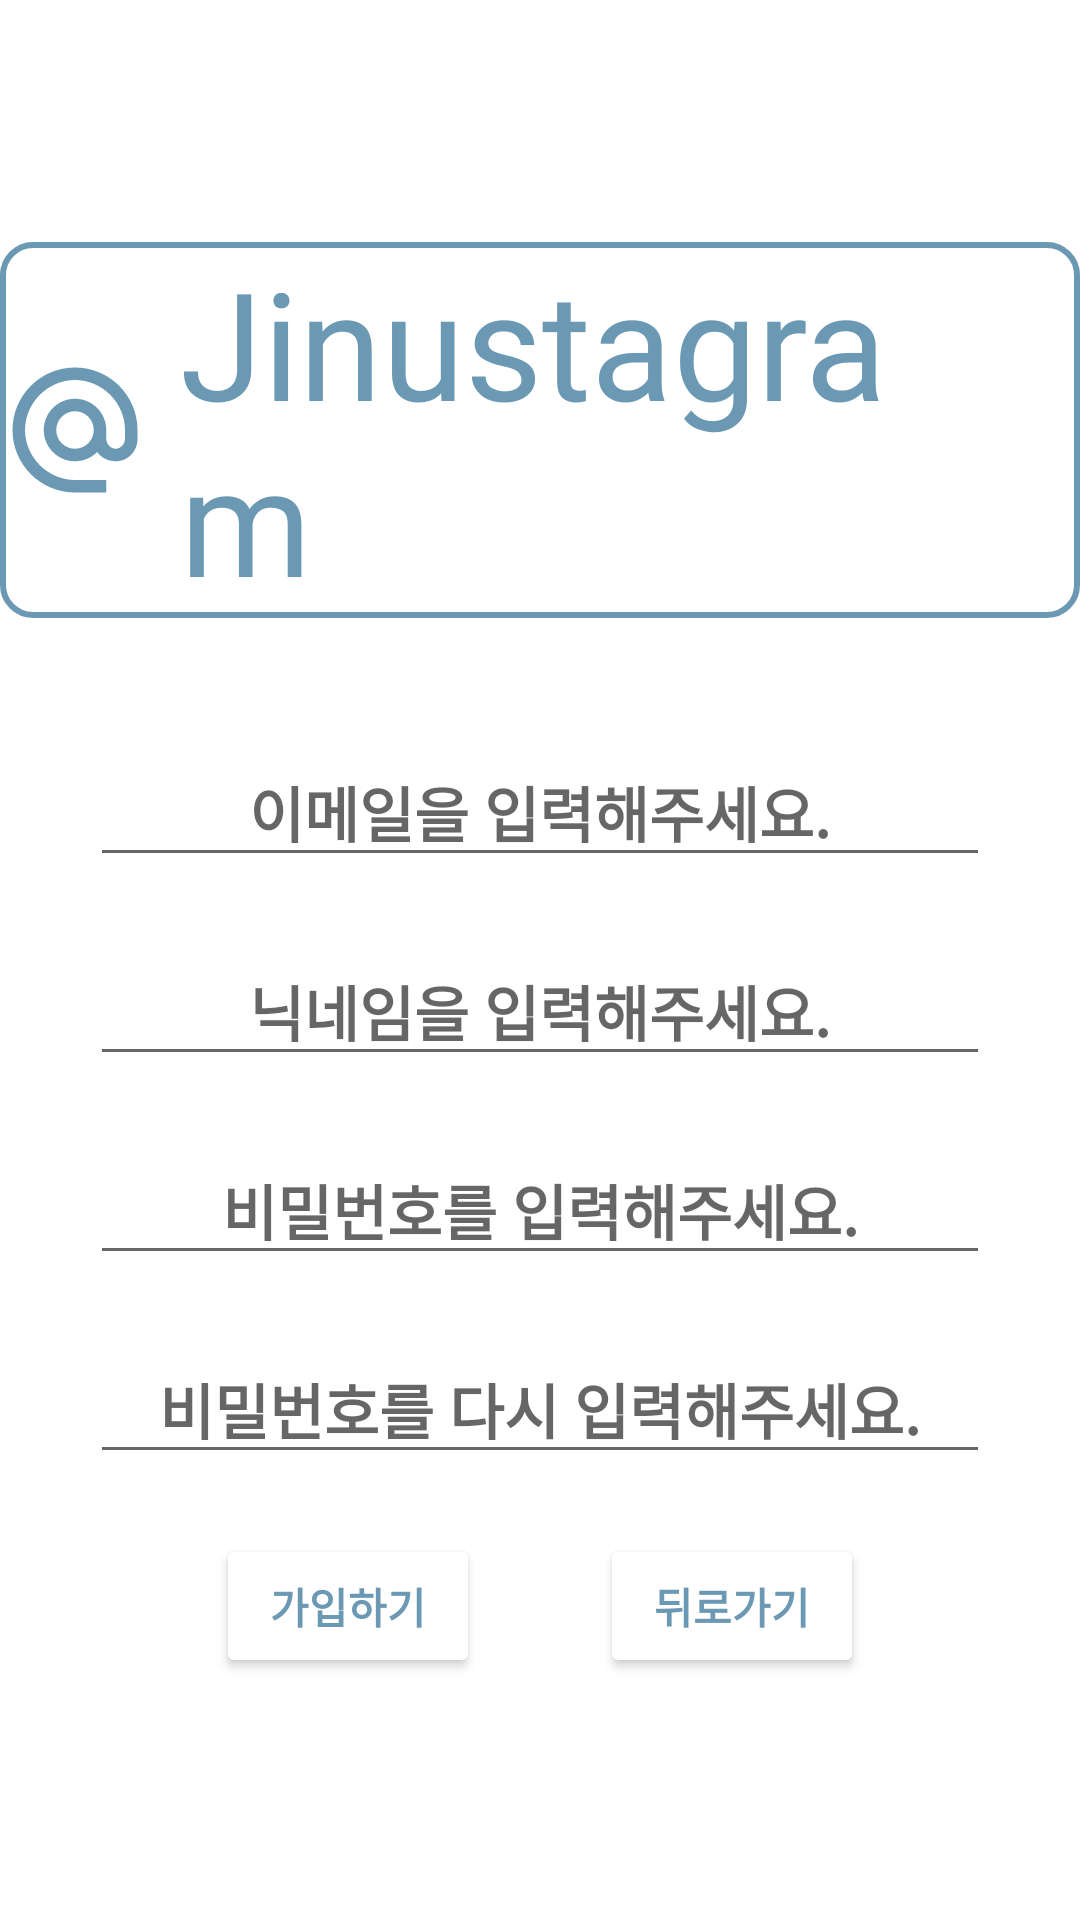

Icons on this 1080 x 1920 Android screen, each with the point to tap as (x=x, y=y):
alternate email: (x=75, y=430)
